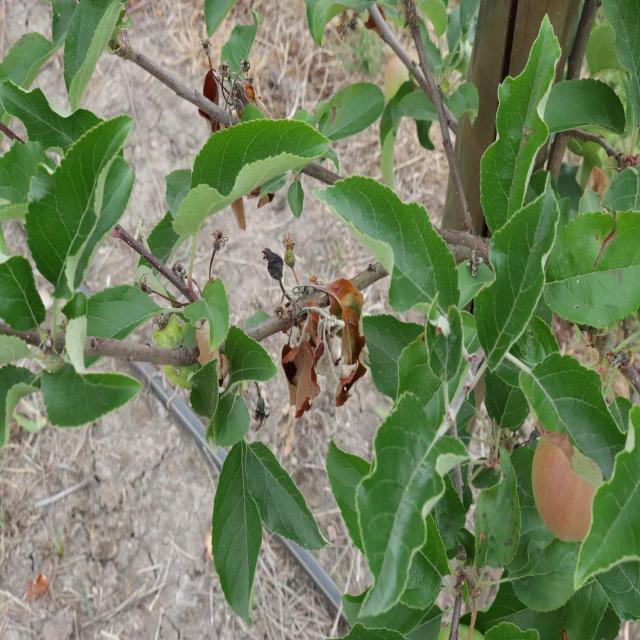-FireBlight-: (274, 290, 366, 400)
